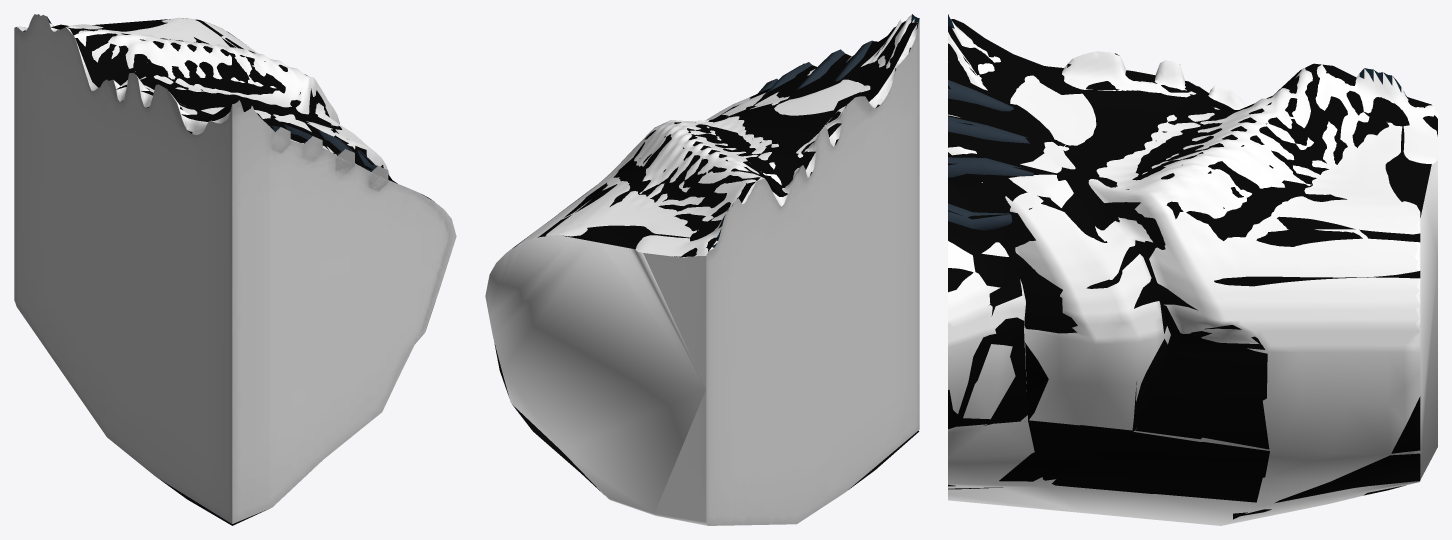
File: newshn-85.glb
3 renders of one model, left to right at view 1: azimuth 30°, elevation 25°; view 2: azimuth 150°, elevation 25°; view 3: azimuth 270°, elevation 25°, orthographic. The views are drawn at different scales.
Parts seen in each view (by area): view 1: newshn-85, newshn-85_outline; view 2: newshn-85, newshn-85_outline; view 3: newshn-85, newshn-85_outline.
Boxes of the visible parts, box(x1,y1,x2,y2) form: newshn-85: box(14, 14, 456, 523); newshn-85_outline: box(51, 19, 434, 525); newshn-85: box(485, 14, 919, 525); newshn-85_outline: box(494, 20, 919, 494); newshn-85: box(948, 14, 1437, 525); newshn-85_outline: box(948, 19, 1437, 519).
Size of the model in its own units: 1.44 by 2.55 by 2.33.
10 materials, 9 textured.
